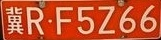R: (27, 7, 44, 35)
